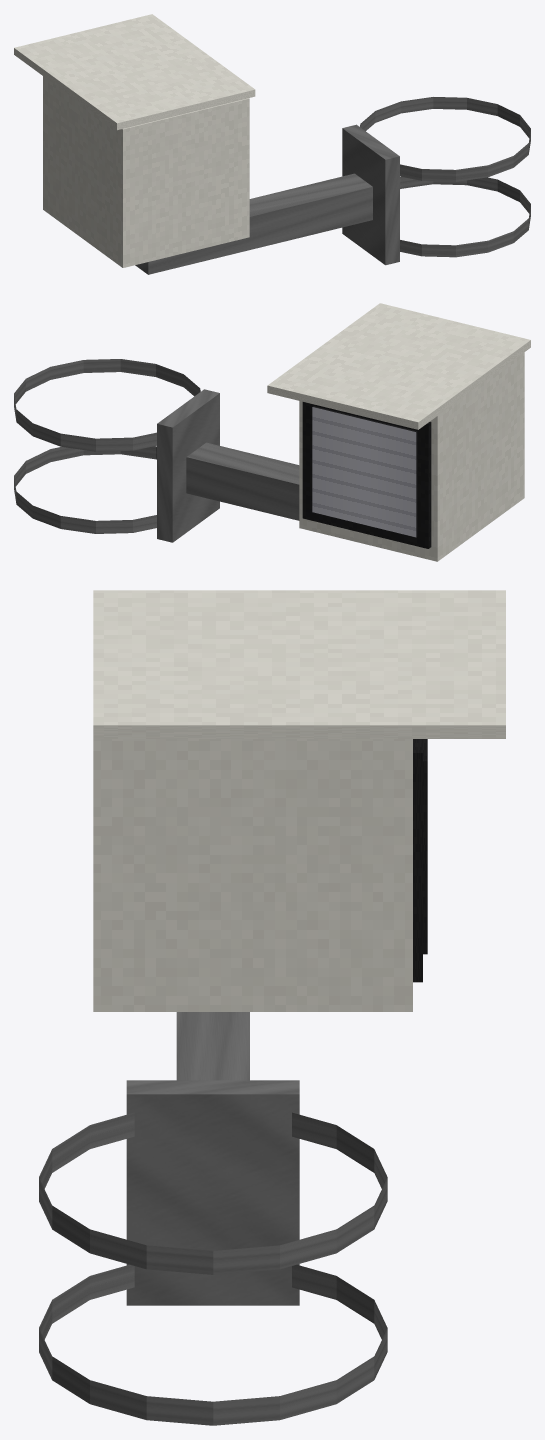
The model's file is flash_unit_side_right_thin.obj.
3 renders of one model, top to bottom at view 1: azimuth 30°, elevation 25°; view 2: azimuth 150°, elevation 25°; view 3: azimuth 270°, elevation 25°, orthographic. The views are drawn at different scales.
Parts seen in each view (by area): view 1: flash_unit_side_right_thin; view 2: flash_unit_side_right_thin; view 3: flash_unit_side_right_thin.
Boxes of the visible parts, x1,y1,x2,y2 form: flash_unit_side_right_thin: (14, 14, 530, 274); flash_unit_side_right_thin: (14, 303, 530, 561); flash_unit_side_right_thin: (39, 590, 505, 1425).
Size of the model in its own units: 1.5 by 0.715 by 0.702.
